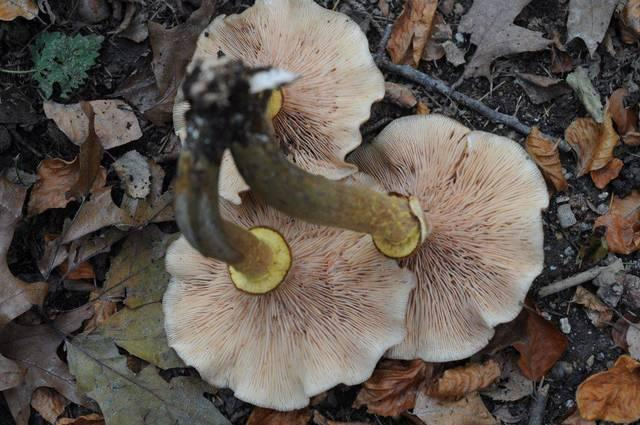Edible Mushroom: (160, 0, 550, 411)
